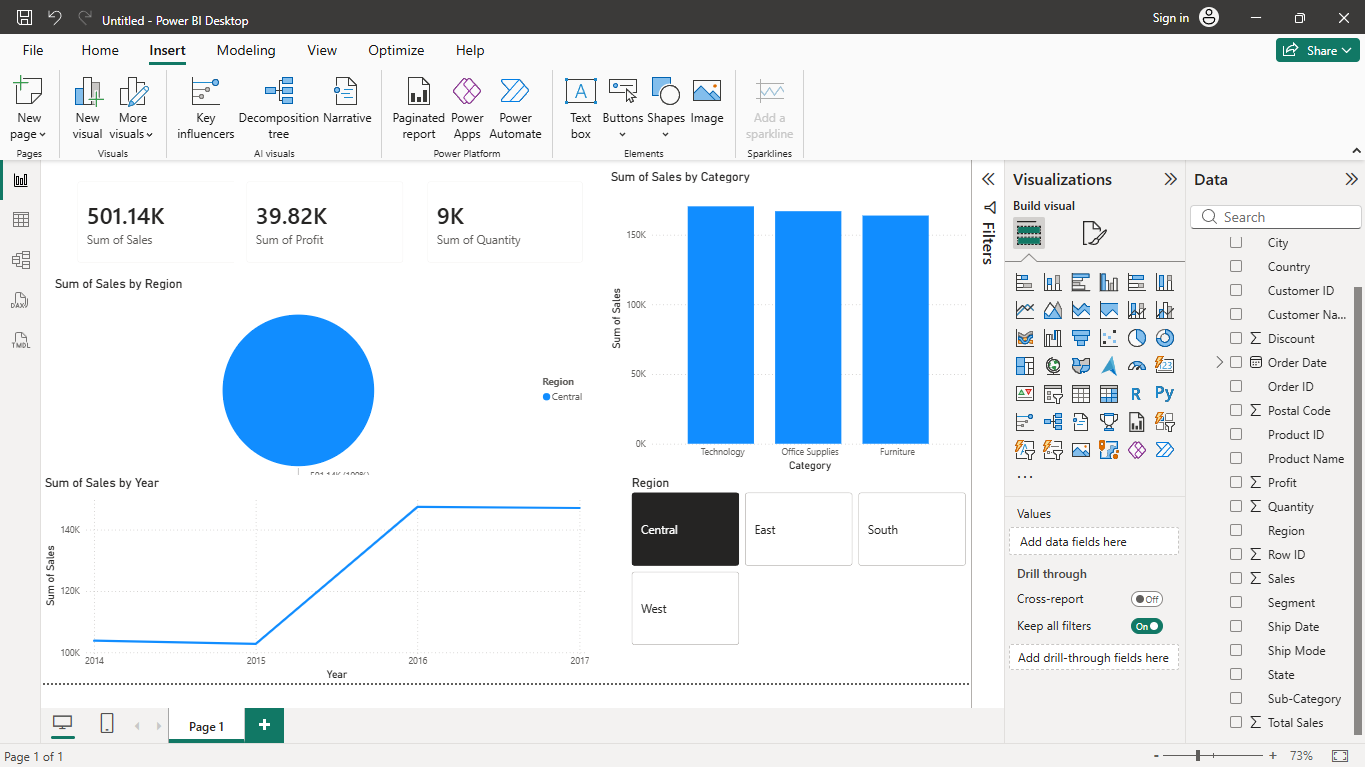

What the dashboard file says about the page in this screenshot:
{"tool":"powerbi","page":{"name":"Page 1","canvas":[1280,720],"ordinal":0},"visuals":[{"type":"columnChart","fields":{"Category":["cleaned_sales.Category"],"Y":["Sum(cleaned_sales.Sales)"]},"box":[779,12.4,501,421.2],"z":0},{"type":"cardVisual","fields":{"Data":["Sum(cleaned_sales.Sales)"]},"box":[33,12.4,255.4,146.7],"z":1,"group":"g1"},{"type":"cardVisual","fields":{"Data":["Sum(cleaned_sales.Profit)"]},"box":[265.3,12.4,250.1,146.7],"z":2,"group":"g1"},{"type":"cardVisual","fields":{"Data":["Sum(cleaned_sales.Quantity)"]},"box":[515.4,12.4,248.3,146.7],"z":3,"group":"g1"},{"type":"pieChart","fields":{"Category":["cleaned_sales.Region"],"Y":["Sum(cleaned_sales.Sales)"]},"box":[13.8,159.7,746,295.9],"z":4},{"type":"lineChart","fields":{"Category":["cleaned_sales.Order Date.Variation.Date Hierarchy.Year","cleaned_sales.Order Date.Variation.Date Hierarchy.Quarter","cleaned_sales.Order Date.Variation.Date Hierarchy.Month","cleaned_sales.Order Date.Variation.Date Hierarchy.Day"],"Y":["Sum(cleaned_sales.Sales)"]},"box":[0,433.4,759.3,287.2],"z":5},{"type":"advancedSlicerVisual","fields":{"Values":["cleaned_sales.Region"]},"box":[808,433.4,472,240.2],"z":6},{"type":"group","id":"g1","title":"Group 1","box":[33,12.4,730.8,147.3],"z":7}]}

Visuals, with their boxes on the page's 1280x720 design canvas (x1, y1, x2, y2). These are canvas units, not pixel positions in the 1365x767 screenshot, which may show the page scaled, cropped or inside an application window:
columnChart - cleaned_sales.Category x Sum(cleaned_sales.Sales): [779, 12, 1280, 434]
cardVisual - Sum(cleaned_sales.Sales): [33, 12, 288, 159]
cardVisual - Sum(cleaned_sales.Profit): [265, 12, 515, 159]
cardVisual - Sum(cleaned_sales.Quantity): [515, 12, 764, 159]
pieChart - cleaned_sales.Region x Sum(cleaned_sales.Sales): [14, 160, 760, 456]
lineChart - cleaned_sales.Order Date.Variation.Date Hierarchy.Year x cleaned_sales.Order Date.Variation.Date Hierarchy.Quarter: [0, 433, 759, 721]
advancedSlicerVisual - cleaned_sales.Region: [808, 433, 1280, 674]
"Group 1" group: [33, 12, 764, 160]
